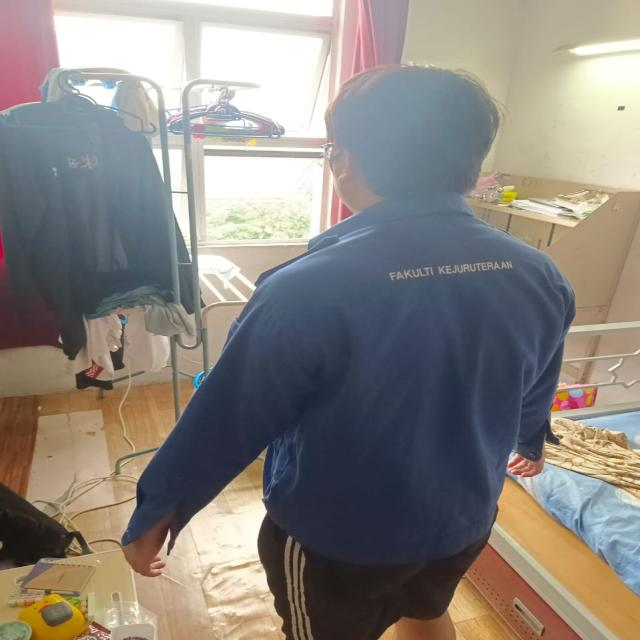person_with_labcoat: (122, 66, 575, 640)
